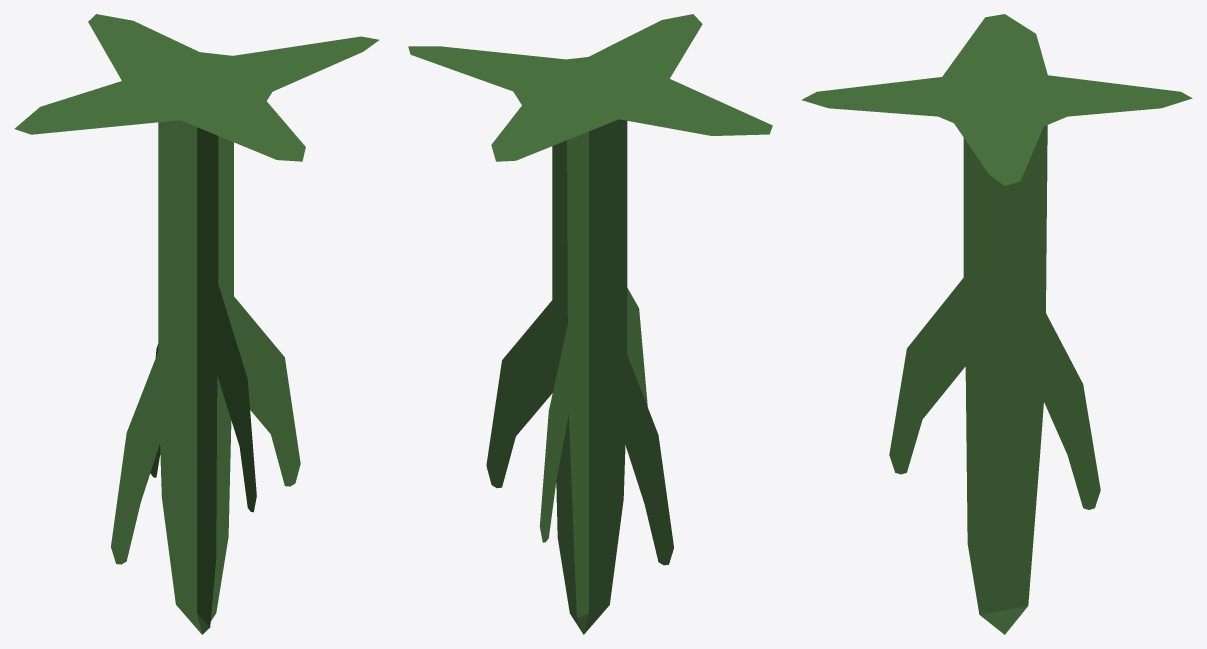
Rendered from cac2.obj.
3 views of the same model, side by side, from view 1: azimuth 30°, elevation 25°; view 2: azimuth 150°, elevation 25°; view 3: azimuth 270°, elevation 25° (orthographic). The views are drawn at different scales.
Size of the model in its own units: 208 by 300 by 200.
